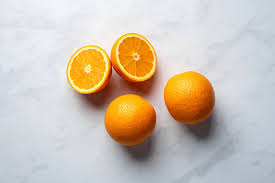orange: (103, 92, 158, 150), (163, 71, 223, 123), (108, 34, 163, 84), (65, 44, 116, 96)
